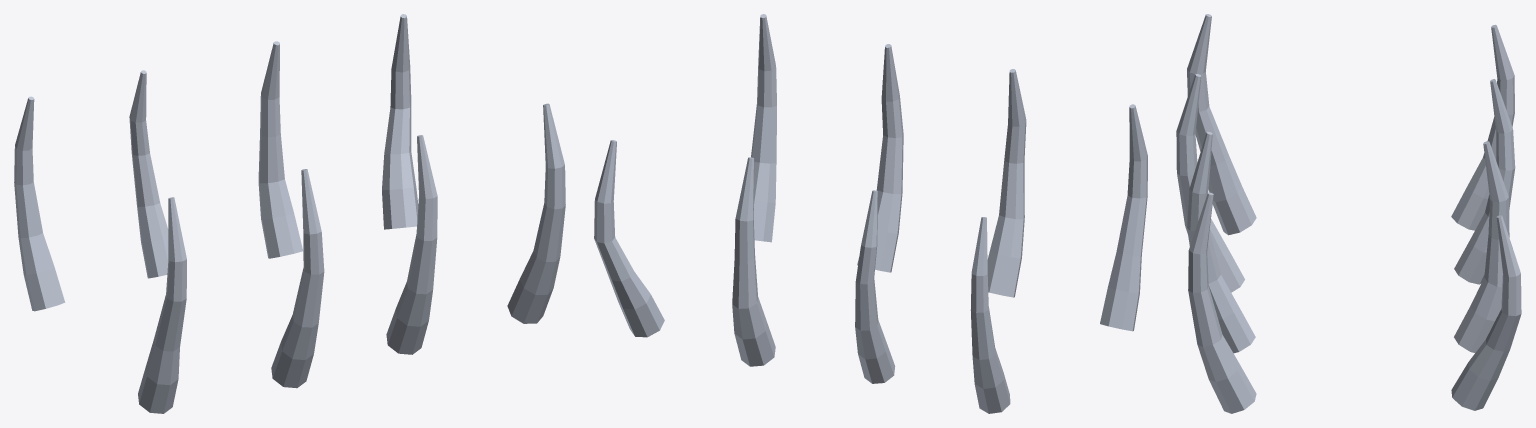
File: Skelleton.fbx
3 renders of one model, left to right at view 1: azimuth 30°, elevation 25°; view 2: azimuth 150°, elevation 25°; view 3: azimuth 270°, elevation 25°, orthographic. The views are drawn at different scales.
Visible parts, largest first — view 1: Skeletton; view 2: Skeletton; view 3: Skeletton.
Part boxes in pixels (x1,y1,x2,y2): Skeletton: (14,14,565,413); Skeletton: (594,14,1147,413); Skeletton: (1176,14,1521,413).
Size of the model in its own units: 213 by 112 by 159.
